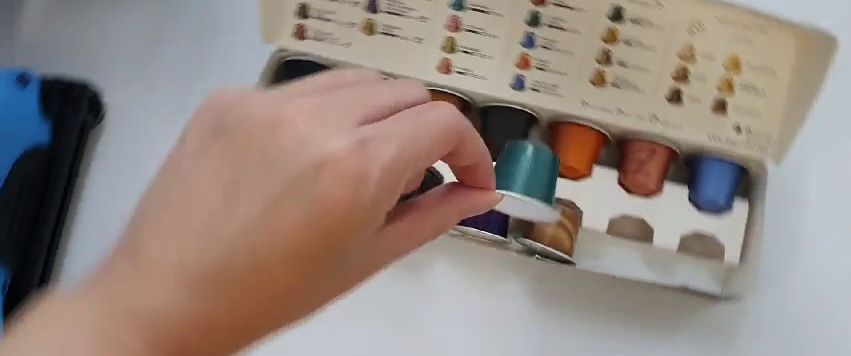capsule_13: (481, 139, 567, 226)
